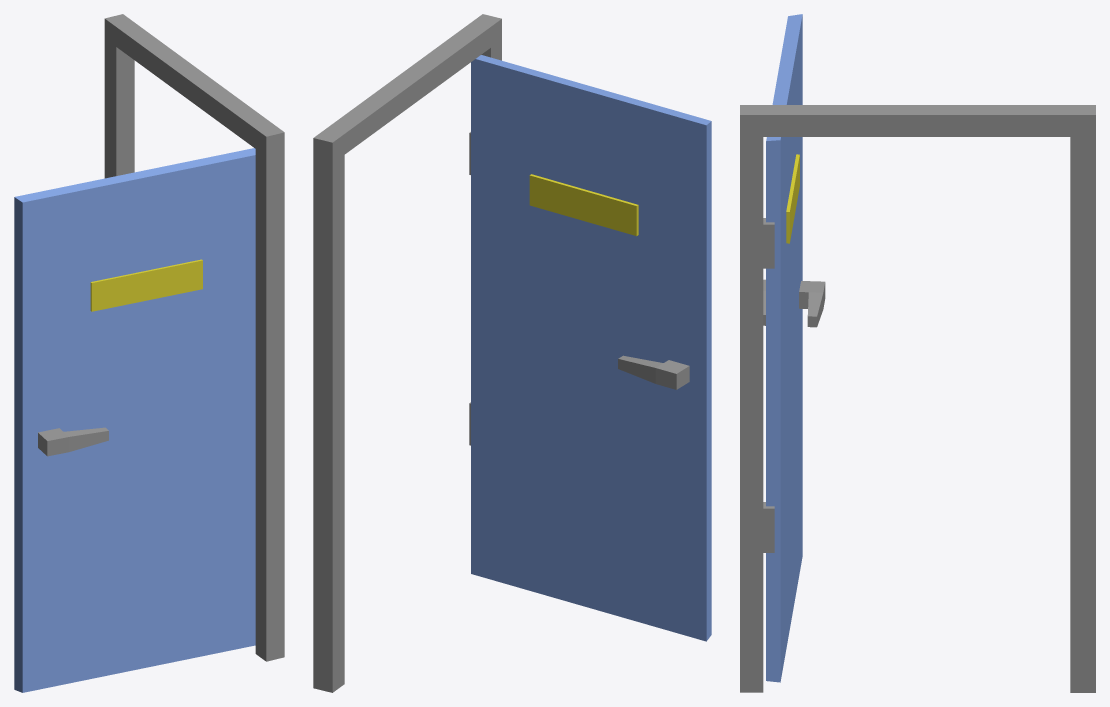
Rendered from hospitaldoor.fbx.
3 renders of one model, left to right at view 1: azimuth 30°, elevation 25°; view 2: azimuth 150°, elevation 25°; view 3: azimuth 270°, elevation 25°, orthographic. The views are drawn at different scales.
Parts seen in each view (by area): view 1: door.frame.001; view 2: door.frame.001; view 3: door.frame.001.
Boxes of the visible parts, <box> form: door.frame.001: <box>14,14,284,692</box>; door.frame.001: <box>313,14,711,692</box>; door.frame.001: <box>740,14,1095,692</box>.
Size of the model in its own units: 473 by 981 by 547.
